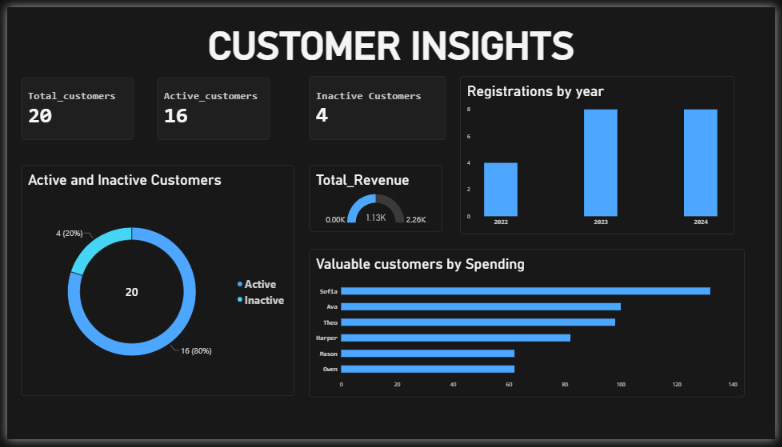

This screenshot's page, from the dashboard's own definition file:
{"tool":"powerbi","page":{"name":"Cus","canvas":[1920,1080],"ordinal":1},"visuals":[{"type":"cardVisual","fields":{"Data":["ecommerce_analysis customers.Total_customers"]},"box":[34.7,175.5,281.6,157.1],"z":0},{"type":"cardVisual","fields":{"Data":["ecommerce_analysis customers.Active_customers"]},"box":[375.5,175.5,281.6,157.1],"z":1000},{"type":"cardVisual","fields":{"Data":["ecommerce_analysis customers.Inactive Customers"]},"box":[755.1,173.5,342.9,159.2],"z":2000},{"type":"donutChart","title":"Active and Inactive Customers","fields":{"Category":["ecommerce_analysis customers.Customer Status"],"Y":["CountNonNull(ecommerce_analysis customers.customer_id)"]},"box":[34.7,395.9,683.3,576.7],"z":3000},{"type":"clusteredBarChart","title":"Valuable customers by Spending","fields":{"Category":["ecommerce_analysis customers.first_name"],"Y":["ecommerce_analysis customers.Customer_shipped_spending"]},"box":[755.1,604.1,1087.8,369.4],"z":4000},{"type":"clusteredColumnChart","title":"Registrations by year","fields":{"Category":["ecommerce_analysis customers.signup_date.Variation.Date Hierarchy.Year"],"Y":["CountNonNull(ecommerce_analysis customers.customer_id)"]},"box":[1132.7,173.5,685,395],"z":5000},{"type":"textbox","box":[0,40,1920,135],"z":6000},{"type":"gauge","fields":{"Y":["ecommerce_analysis orders.Total_Revenue"]},"box":[755.1,395.9,332.7,165.3],"z":7000}]}

Visuals, with their boxes in screenshot pixels (x1, y1, x2, y2), scaled from the page's 1920x1080 canvas onto the 782x447 screenshot:
cardVisual - ecommerce_analysis customers.Total_customers: select_region(14, 73, 129, 138)
cardVisual - ecommerce_analysis customers.Active_customers: select_region(153, 73, 268, 138)
cardVisual - ecommerce_analysis customers.Inactive Customers: select_region(308, 72, 447, 138)
"Active and Inactive Customers" donutChart: select_region(14, 164, 292, 403)
"Valuable customers by Spending" clusteredBarChart: select_region(308, 250, 751, 403)
"Registrations by year" clusteredColumnChart: select_region(461, 72, 740, 235)
textbox: select_region(0, 17, 781, 72)
gauge - ecommerce_analysis orders.Total_Revenue: select_region(308, 164, 443, 232)
